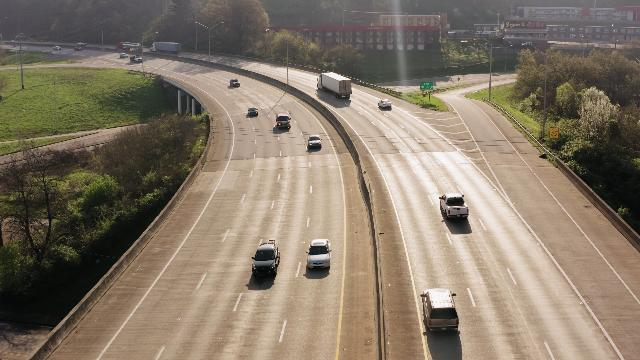car: (419, 289, 462, 336), (252, 239, 281, 280), (315, 71, 353, 102), (307, 239, 333, 273), (307, 133, 323, 153), (378, 97, 392, 112), (225, 78, 243, 89), (247, 106, 260, 117), (117, 51, 128, 59), (75, 46, 82, 51), (53, 46, 61, 50)
pickup-truck: (438, 190, 471, 223), (130, 54, 144, 67), (77, 42, 88, 46)
truck: (149, 38, 183, 54), (116, 38, 143, 51)
van: (276, 112, 292, 132)
